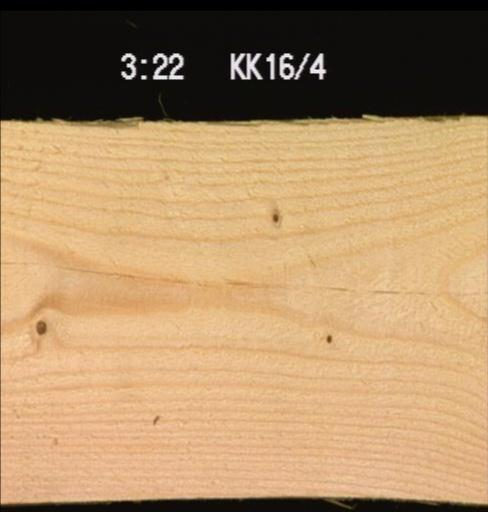small_knot: (32, 314, 46, 336), (268, 209, 279, 224), (321, 330, 332, 344)
wave: (0, 113, 469, 140)
